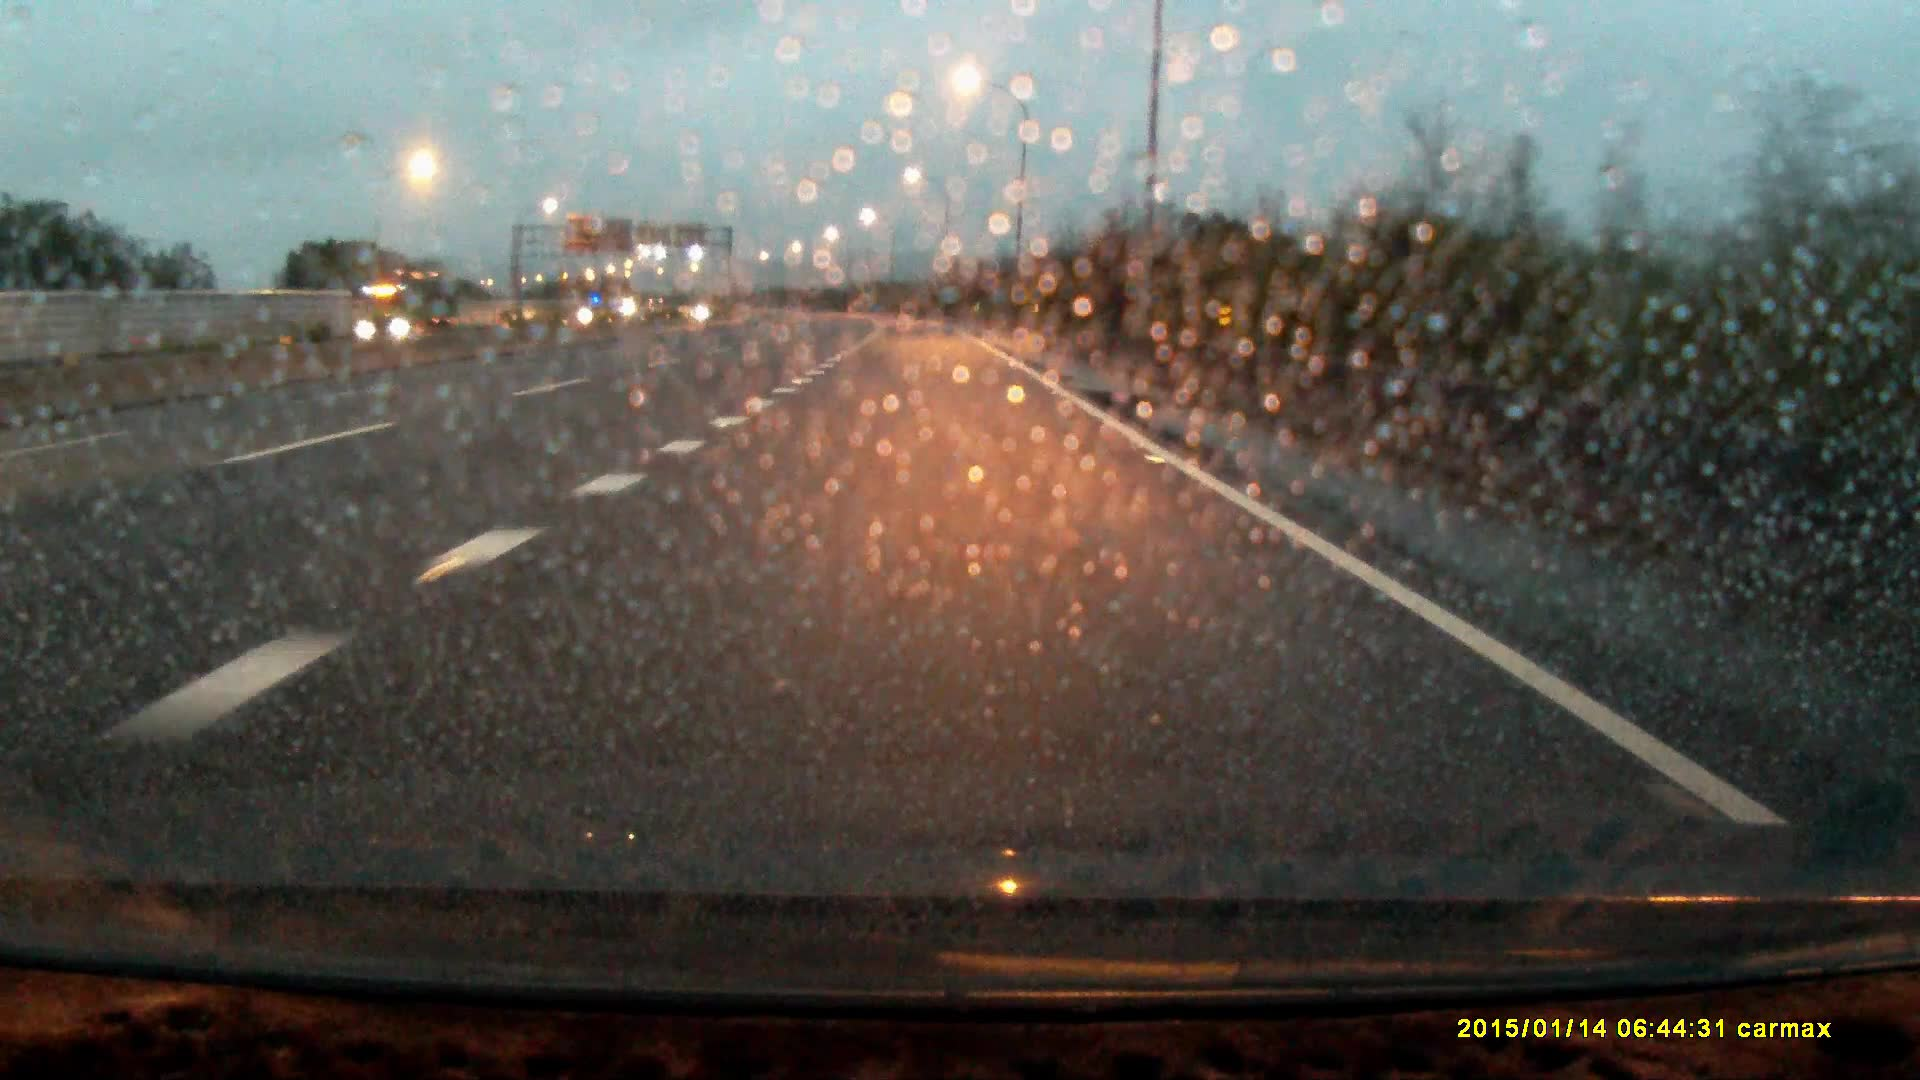vehicle: (355, 284, 436, 345)
